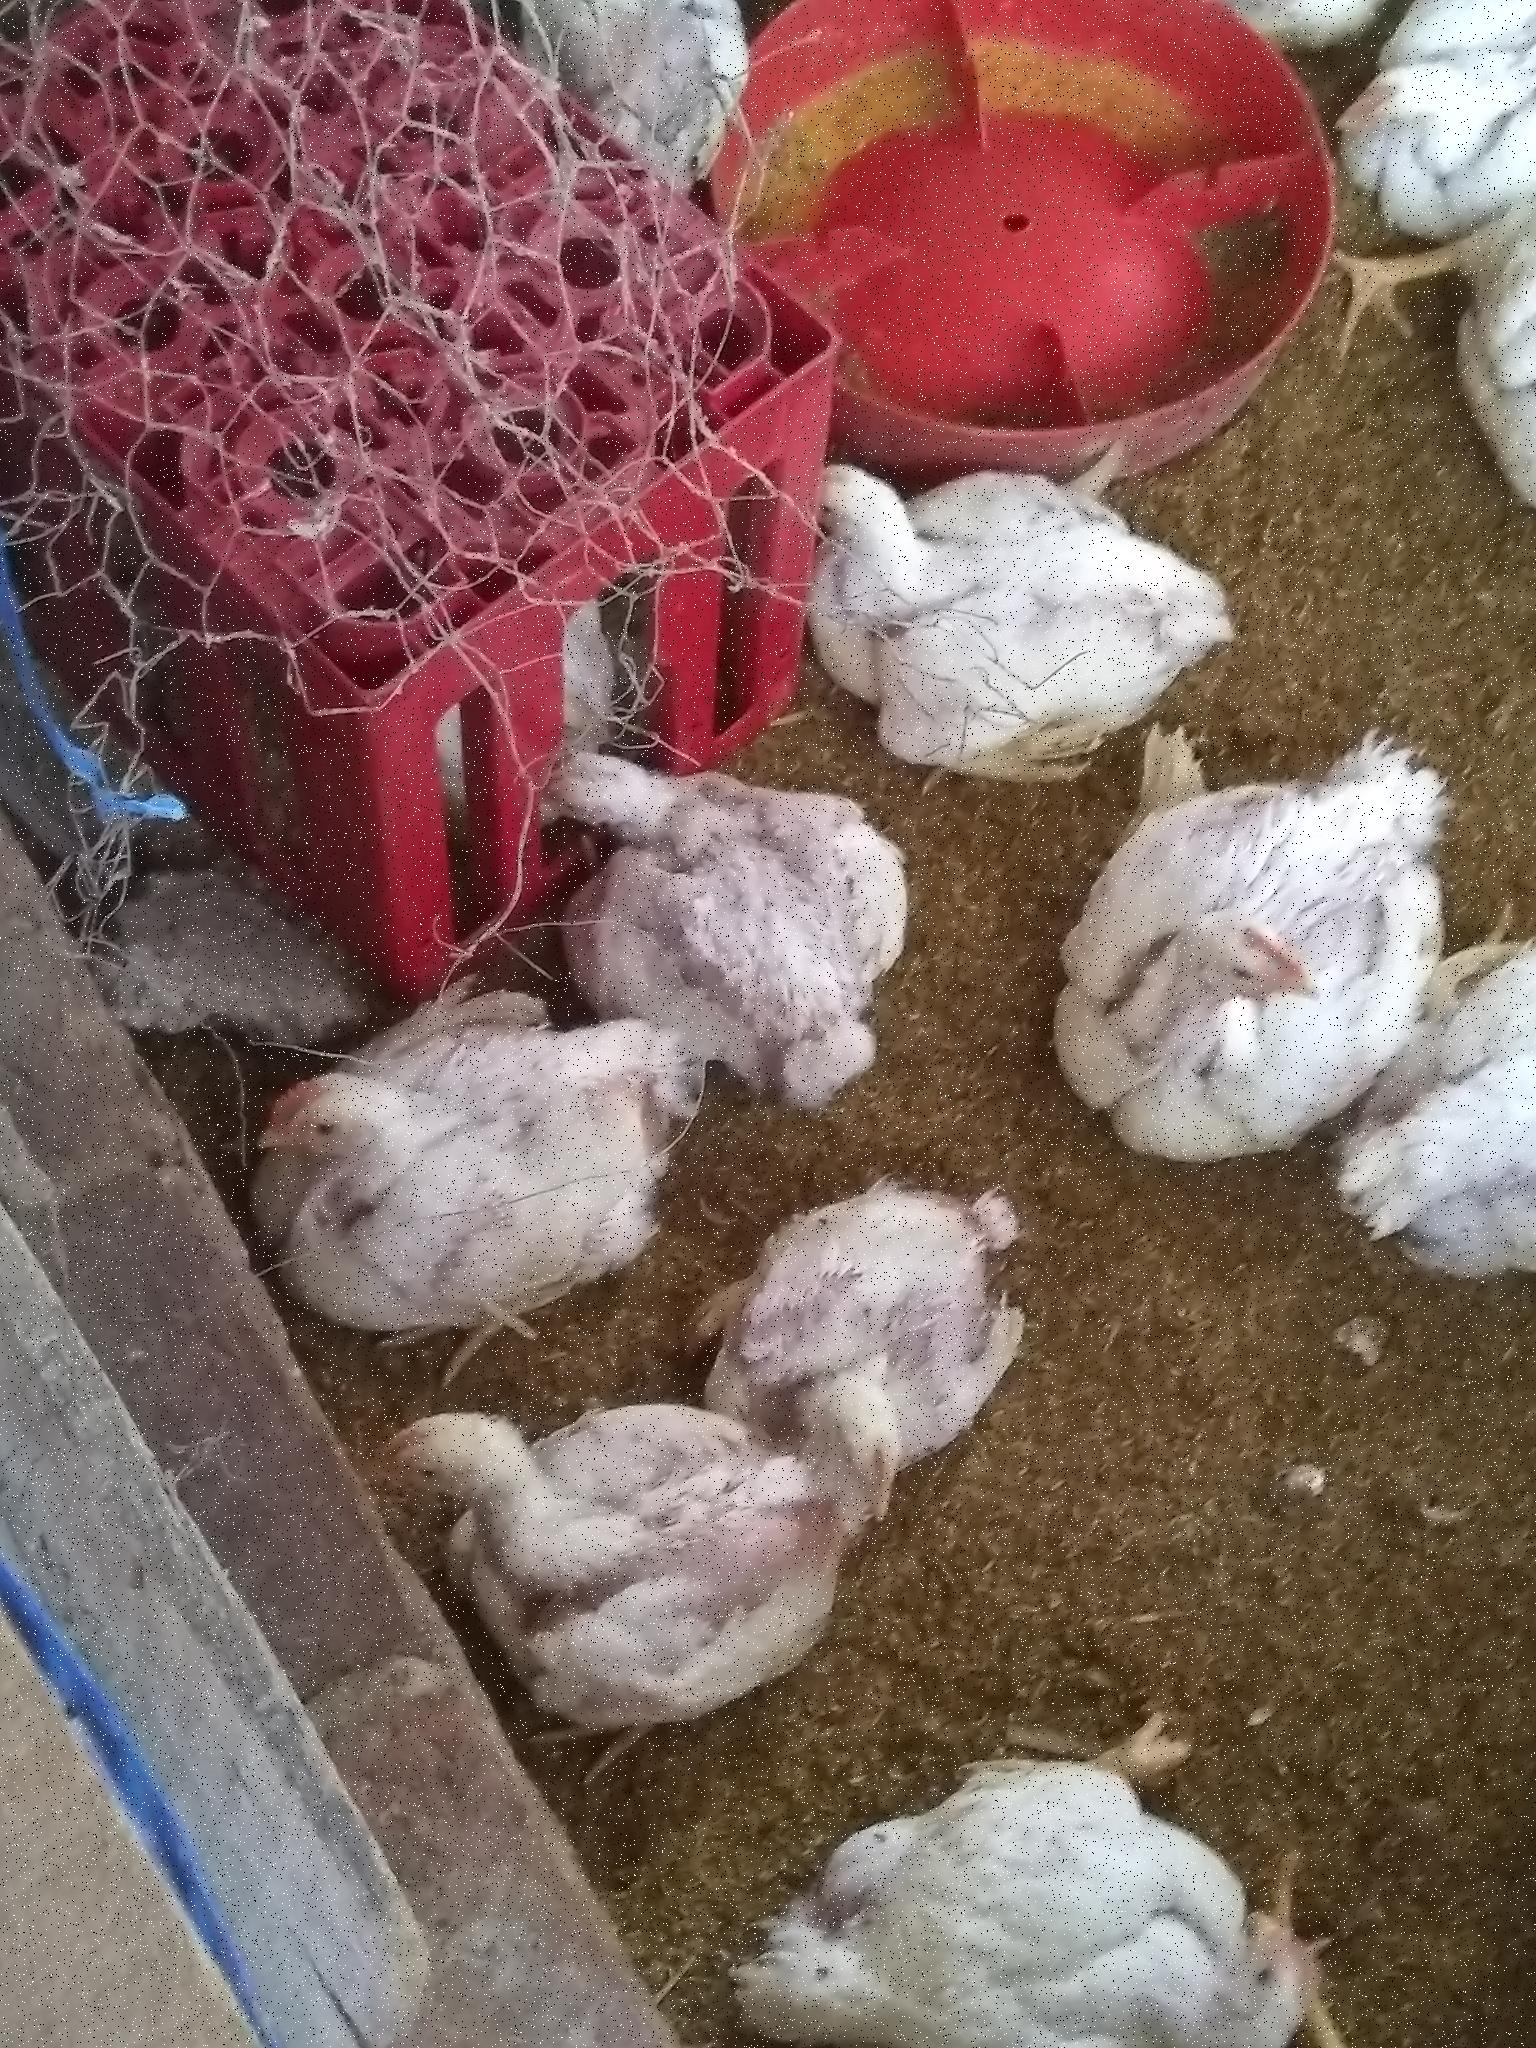Pollos: (734, 1716, 1375, 2048), (1042, 751, 1501, 1155), (352, 1397, 815, 1729), (224, 968, 579, 1363), (783, 460, 1226, 764), (541, 747, 916, 1087), (710, 1172, 1046, 1505), (1329, 918, 1536, 1268), (1329, 211, 1533, 548), (495, 2, 765, 203), (1329, 2, 1536, 232)
